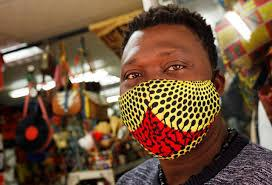Wearing Mask: (116, 9, 229, 165)
